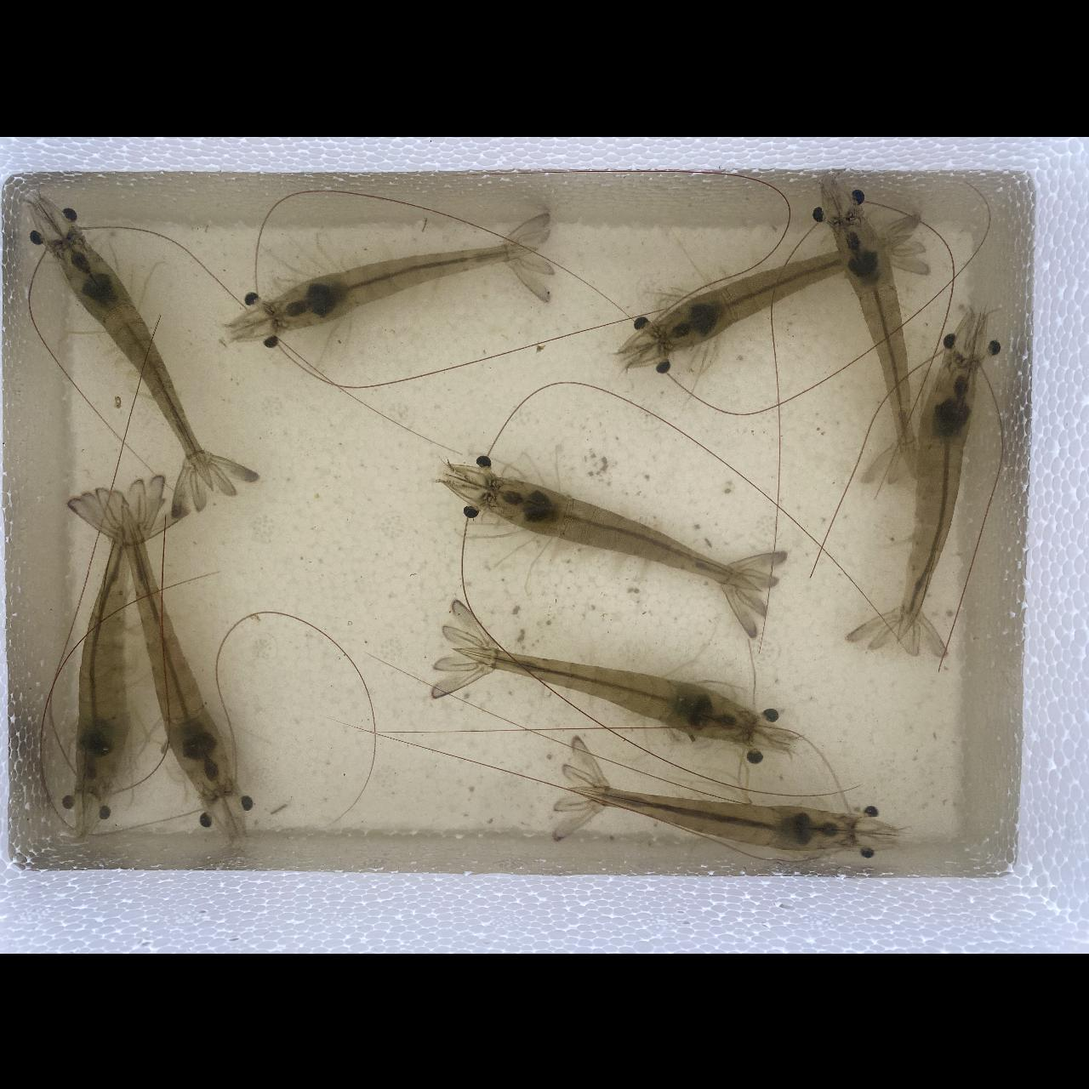top_shrimp: (56, 238, 216, 476), (487, 478, 754, 589), (131, 509, 231, 800), (461, 648, 754, 738), (660, 235, 890, 349), (272, 245, 534, 327), (900, 357, 975, 636), (78, 500, 140, 795), (575, 788, 856, 849), (842, 223, 914, 442)
